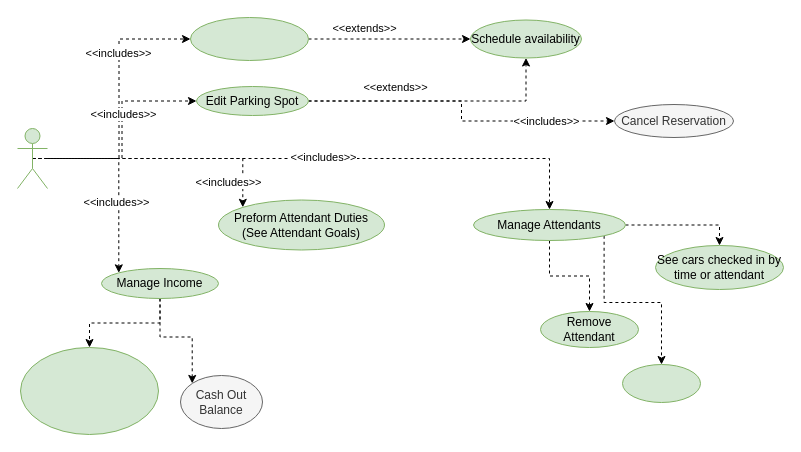
The diagram is 801 pixels wide and 452 high, and some of its shapes have lost their labels. Each missing label, with the centre of its shape:
"Add Attendant" belongs at pixel 661 383.
"Create Parking Spot" belongs at pixel 249 38.
"Host" belongs at pixel 32 158.
"See Income over range of time (days, hours, months, years)" belongs at pixel 89 390.
